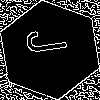J: (25, 25, 77, 57)
